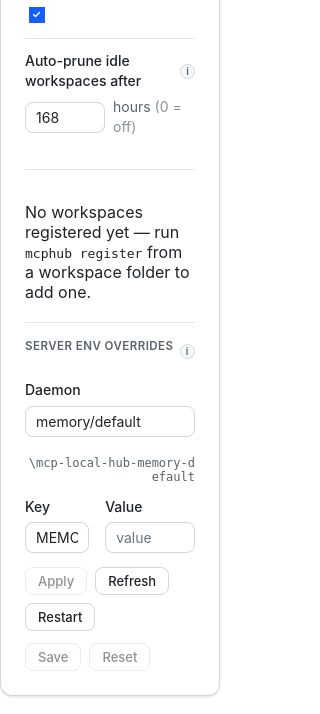
SectionDaemons (editable, A4-b PR #1 / Task 11) › renders the dead-worktree toggle (checked by default) and Save enables on toggle
(page scrolled)
Expected: the button with test id "daemons-save" is disabled, [25,643,81,671]
Click the checkbox with test id "daemons-prune-dead-worktrees-checkbox": x=37, y=15 [29,7,45,23]
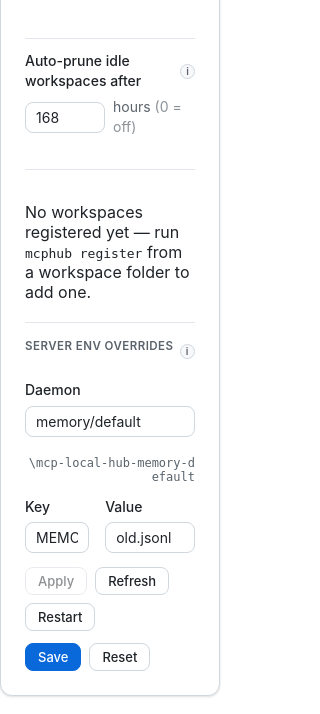
Now the button with test id "daemons-save" is enabled, box [25,643,81,671]
